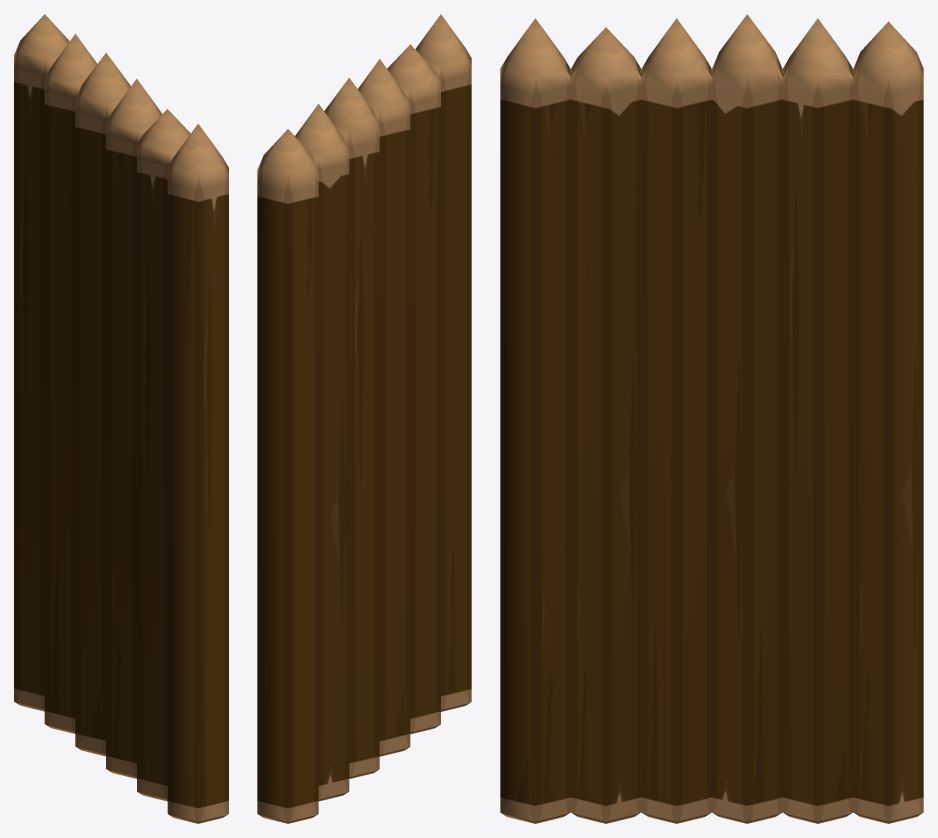
File: mod_building_palisade_section_2.fbx
3 views of the same model, side by side, from view 1: azimuth 30°, elevation 25°; view 2: azimuth 150°, elevation 25°; view 3: azimuth 270°, elevation 25° (orthographic). The views are drawn at different scales.
Parts seen in each view (by area): view 1: mod_building_palisade_section_b; view 2: mod_building_palisade_section_b; view 3: mod_building_palisade_section_b.
Part boxes in pixels (x1=…): mod_building_palisade_section_b: x1=14, y1=14, x2=228, y2=823; mod_building_palisade_section_b: x1=257, y1=14, x2=471, y2=823; mod_building_palisade_section_b: x1=500, y1=14, x2=923, y2=823.
Size of the model in its own units: 38.54 by 415 by 200.
